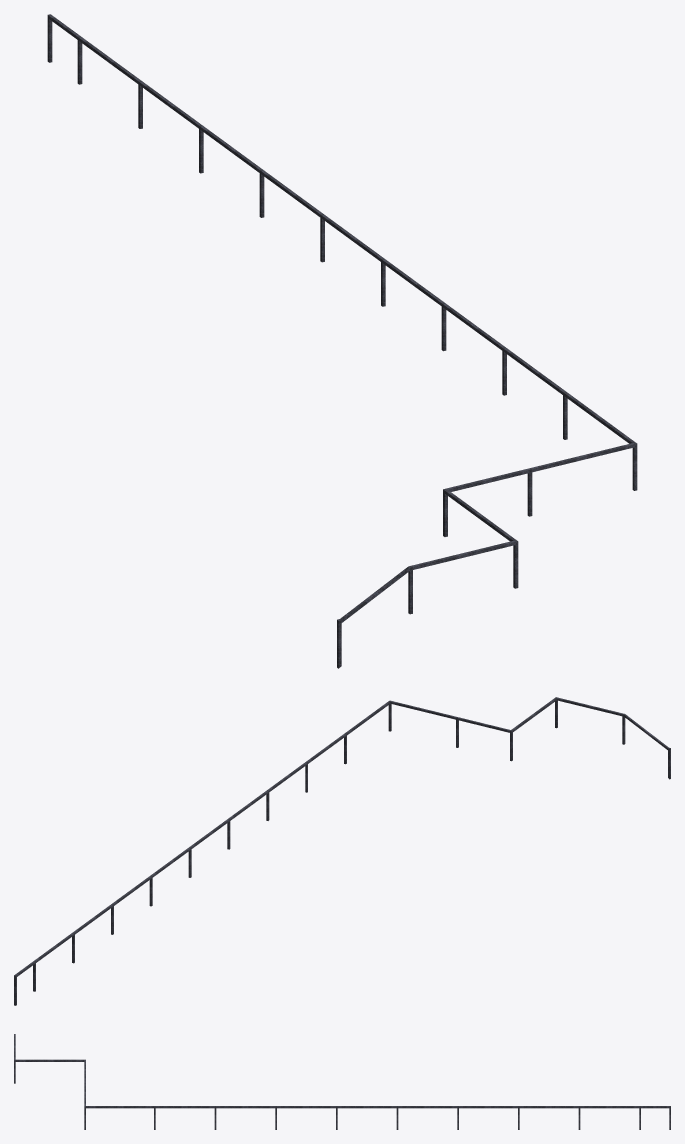
Rendered from M10_Z02_GuardRail02.glb.
The picture shows the model from 3 angles, top to bottom: view 1: azimuth 30°, elevation 25°; view 2: azimuth 150°, elevation 25°; view 3: azimuth 270°, elevation 25°; orthographic projection. The views are drawn at different scales.
Parts seen in each view (by area): view 1: M10_Z02_GUARDRAIL02; view 2: M10_Z02_GUARDRAIL02; view 3: M10_Z02_GUARDRAIL02.
Boxes of the visible parts, bbox=[...] form: M10_Z02_GUARDRAIL02: bbox=[47, 14, 637, 668]; M10_Z02_GUARDRAIL02: bbox=[14, 697, 670, 1005]; M10_Z02_GUARDRAIL02: bbox=[14, 1034, 670, 1129].
Size of the model in its own units: 7.75 by 1.68 by 23.89.
1 material, 1 textured.
